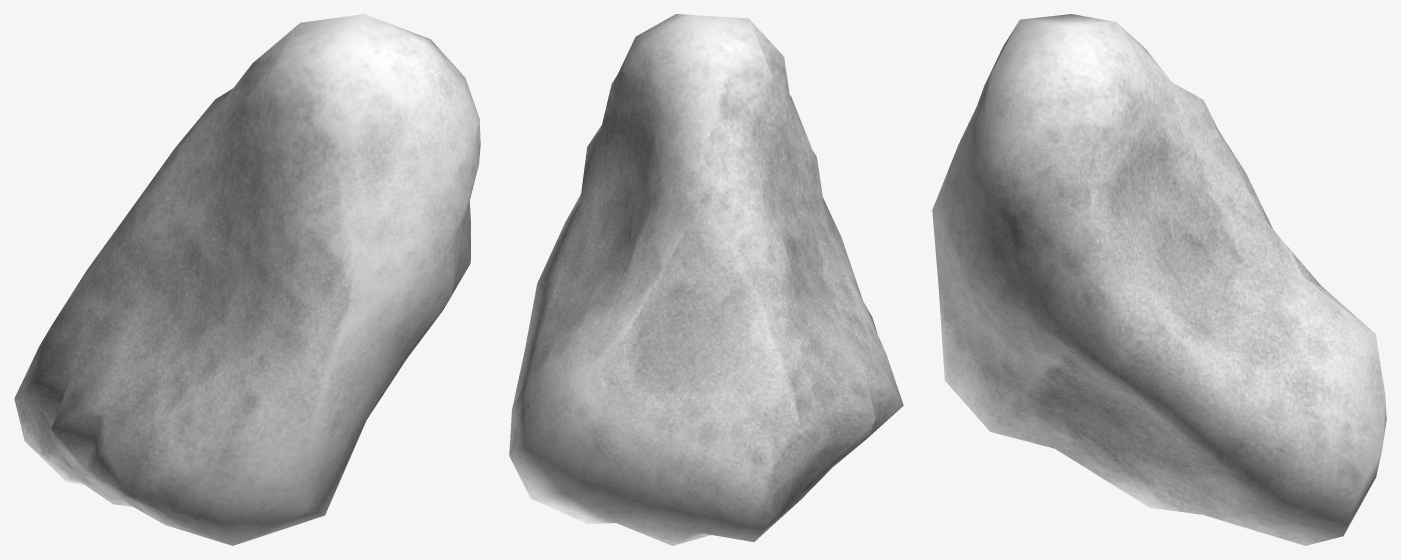
File: Rock-3.fbx
3 renders of one model, left to right at view 1: azimuth 30°, elevation 25°; view 2: azimuth 150°, elevation 25°; view 3: azimuth 270°, elevation 25°, orthographic. The views are drawn at different scales.
Parts seen in each view (by area): view 1: Cube.005; view 2: Cube.005; view 3: Cube.005.
Boxes of the visible parts, box(x1,y1,x2,y2) form: Cube.005: box(14, 14, 480, 545); Cube.005: box(509, 14, 903, 545); Cube.005: box(932, 14, 1386, 545).
Size of the model in its own units: 120 by 155 by 123.
